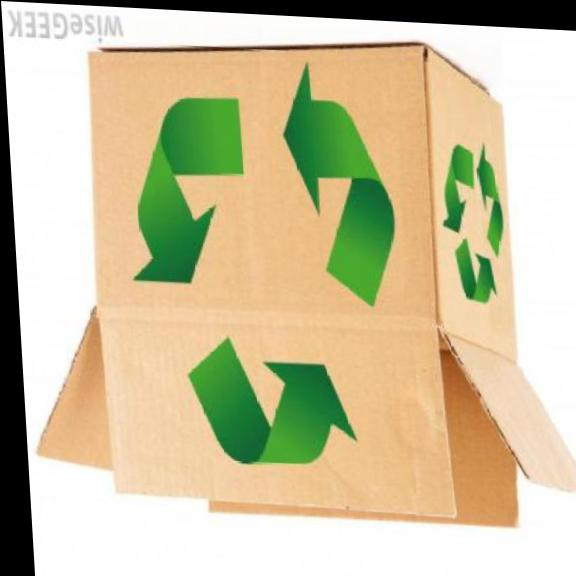Kertas: (12, 22, 576, 552), (38, 45, 576, 527)
